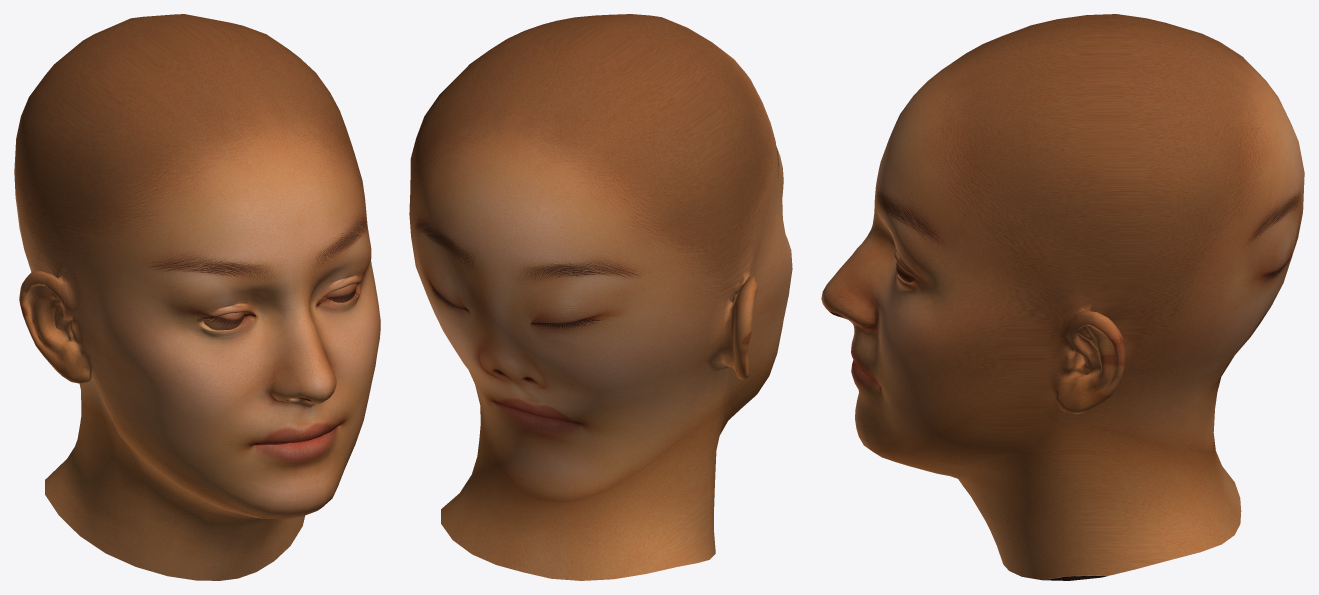
Rendered from raccoon_head.glb.
3 renders of one model, left to right at view 1: azimuth 30°, elevation 25°; view 2: azimuth 150°, elevation 25°; view 3: azimuth 270°, elevation 25°, orthographic. The views are drawn at different scales.
Parts seen in each view (by area): view 1: mesh_000001; view 2: mesh_000001; view 3: mesh_000001.
Part boxes in pixels (x1,y1,x2,y2): mesh_000001: (14,14,380,580); mesh_000001: (409,14,792,580); mesh_000001: (821,14,1304,580).
Size of the model in its own units: 0.5993 by 0.9043 by 0.7526.
1 material, 1 textured.
